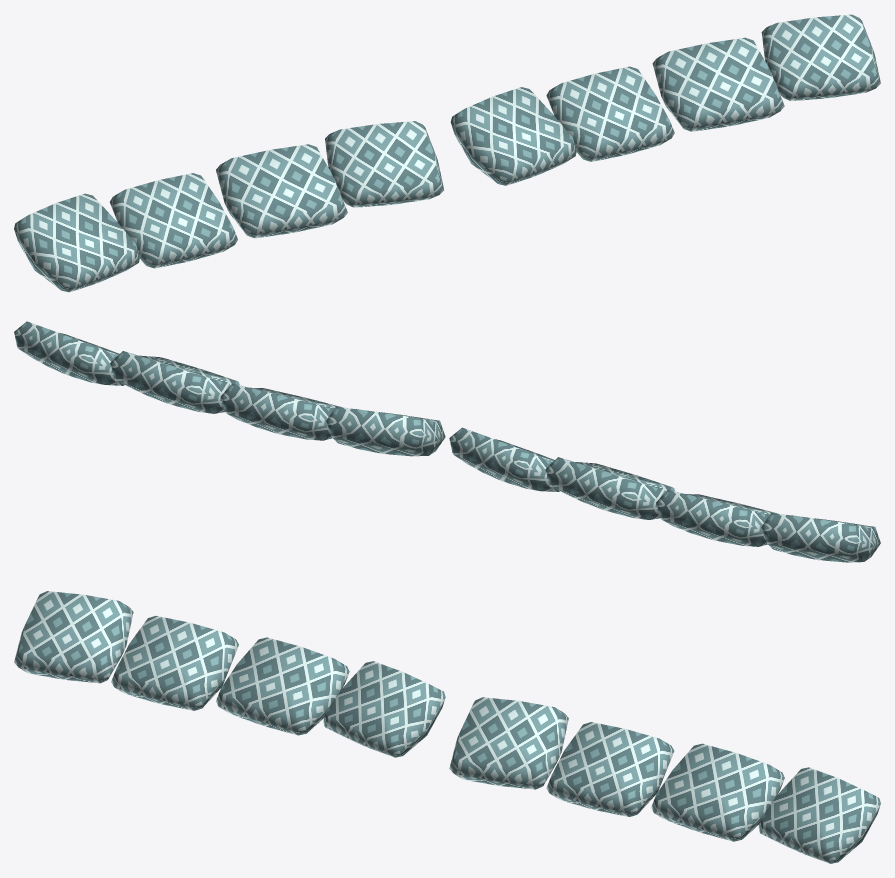
File: DI_058_pillows_var01.glb
3 views of the same model, one above another, from view 1: azimuth 30°, elevation 25°; view 2: azimuth 150°, elevation 25°; view 3: azimuth 330°, elevation 25° (orthographic).
Visible parts, largest first — view 1: Pillow.010, Pillow.006, Pillow.007, Pillow.011, Pillow.008, Pillow.004, Pillow.009, Pillow.005; view 2: Pillow.010, Pillow.006, Pillow.005, Pillow.009, Pillow.008, Pillow.004, Pillow.007, Pillow.011; view 3: Pillow.010, Pillow.006, Pillow.005, Pillow.009, Pillow.008, Pillow.004, Pillow.011, Pillow.007.
Boxes of the visible parts, x1,y1,x2,y2 form: Pillow.010: (652,37,784,131); Pillow.006: (216,144,347,238); Pillow.007: (325,121,443,207); Pillow.011: (761,14,880,101); Pillow.008: (546,66,674,161); Pillow.004: (109,173,237,268); Pillow.009: (450,87,576,185); Pillow.005: (14,193,140,292); Pillow.010: (110,351,239,413); Pillow.006: (545,457,674,519); Pillow.005: (761,513,880,562); Pillow.009: (326,406,445,456); Pillow.008: (220,383,341,440); Pillow.004: (656,490,777,546); Pillow.007: (449,427,559,491); Pillow.011: (14,321,124,385); Pillow.010: (651,743,784,841); Pillow.006: (216,637,349,735); Pillow.005: (14,591,133,683); Pillow.009: (449,697,568,789); Pillow.008: (546,722,674,816); Pillow.004: (111,616,238,710); Pillow.011: (758,767,880,863); Pillow.007: (323,661,445,757).
Size of the model in its own units: 5.82 by 0.4221 by 0.6183.
Materials: 1 (1 with a texture image).
